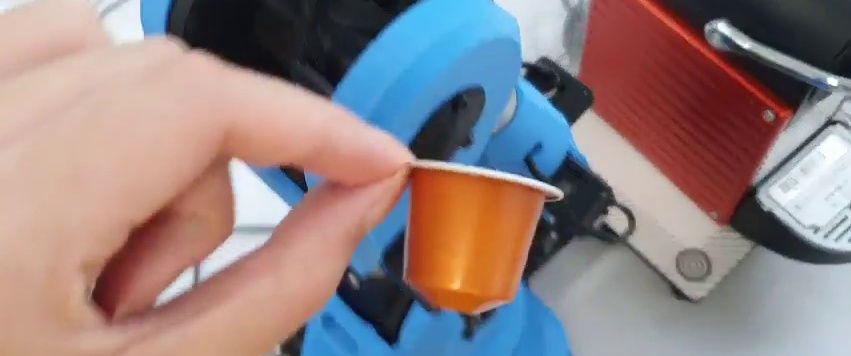capsule_5: (391, 154, 569, 312)
